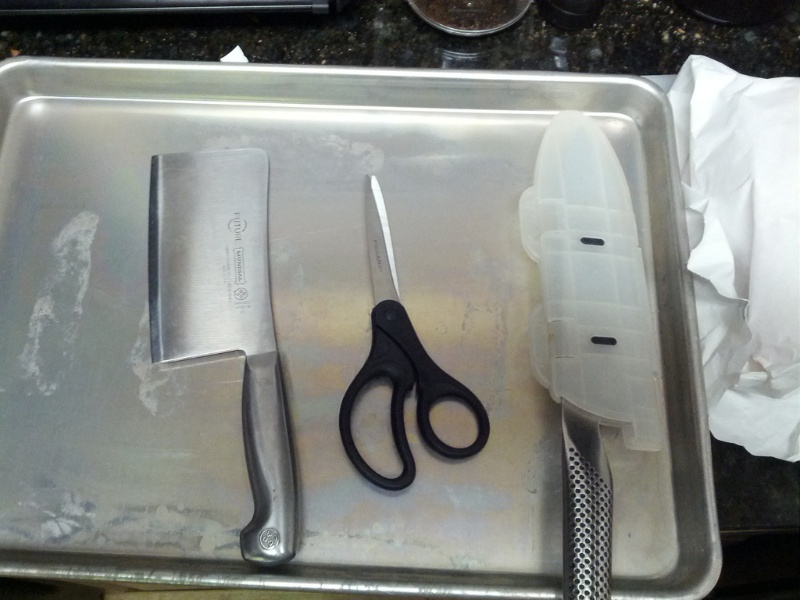knife: (146, 145, 311, 574)
